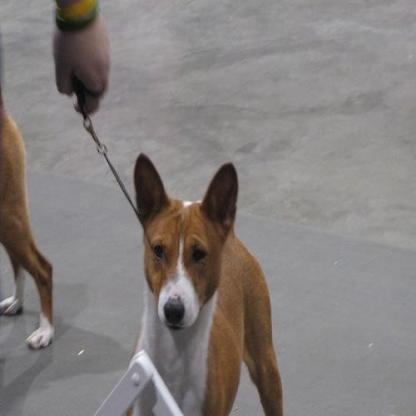basenji: (132, 151, 285, 414), (0, 82, 54, 350)
